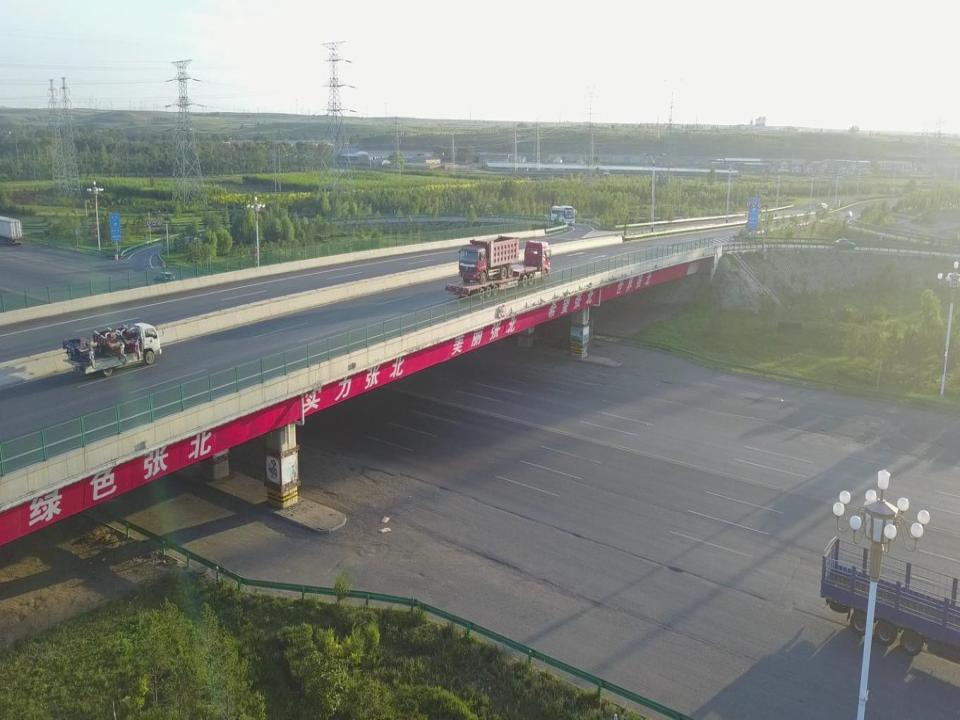bus: (550, 205, 576, 225)
car: (153, 271, 175, 285), (834, 237, 856, 249), (845, 211, 852, 217)
truck: (820, 537, 960, 654), (446, 241, 552, 298), (63, 323, 164, 376), (458, 236, 520, 284), (0, 216, 23, 245)
